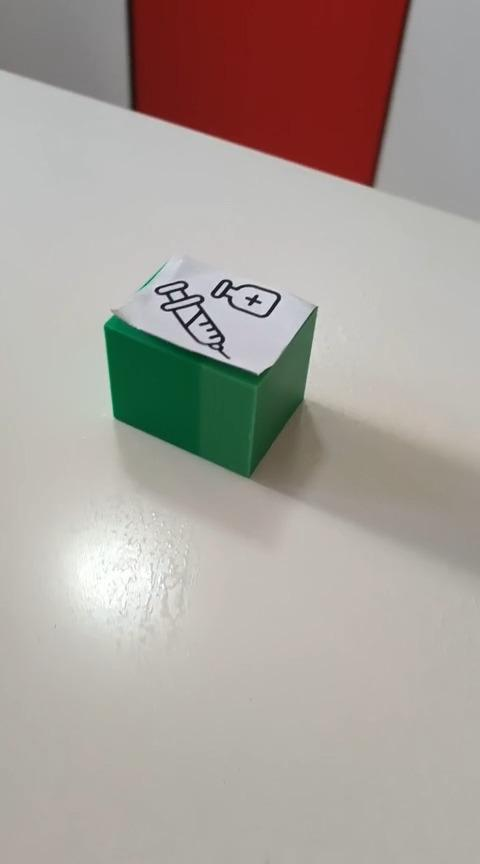antiseptic cream: (102, 252, 319, 478)
